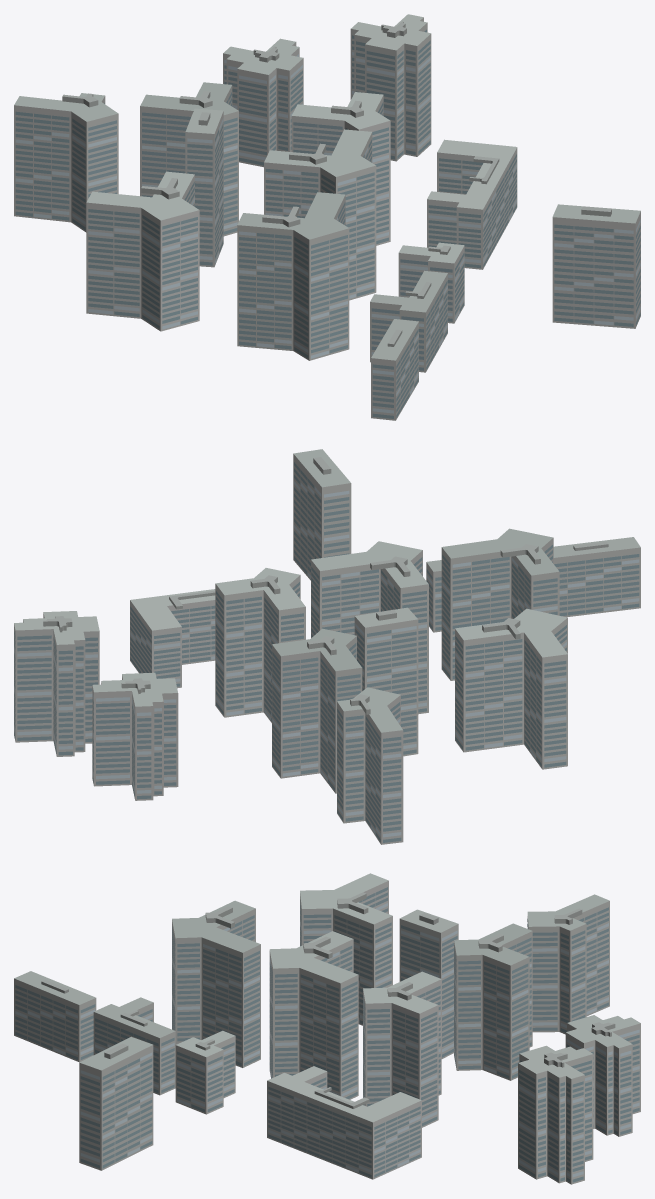
Rendered from apt-a10025130.glb.
3 views of the same model, one above another, from view 1: azimuth 30°, elevation 25°; view 2: azimuth 150°, elevation 25°; view 3: azimuth 270°, elevation 25° (orthographic). The views are drawn at different scales.
Visible parts, largest first — view 1: apt-a10025130; view 2: apt-a10025130; view 3: apt-a10025130.
Boxes of the visible parts, x1,y1,x2,y2 form: apt-a10025130: [14, 14, 640, 420]; apt-a10025130: [14, 449, 640, 844]; apt-a10025130: [14, 873, 640, 1184].
Bounding box in the file's own units: 228 × 68 × 294.
